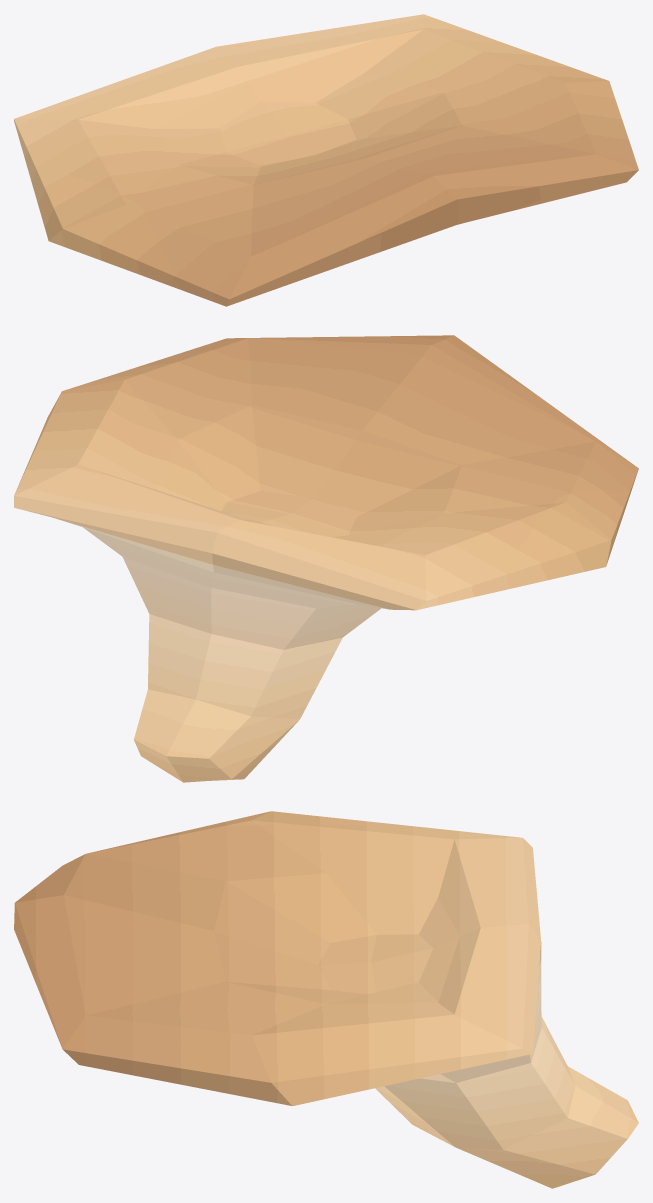
File: Oyster_Medium.glb
The picture shows the model from 3 angles, top to bottom: view 1: azimuth 30°, elevation 25°; view 2: azimuth 150°, elevation 25°; view 3: azimuth 270°, elevation 25°; orthographic projection. The views are drawn at different scales.
Parts seen in each view (by area): view 1: Cube.001; view 2: Cube.001; view 3: Cube.001.
Part boxes in pixels (box(x1,y1,x2,y2)): Cube.001: box(14, 14, 638, 306); Cube.001: box(14, 335, 638, 782); Cube.001: box(14, 811, 638, 1188).
Bounding box in the file's own units: 6.97 × 3.22 × 6.3.
1 material, 1 textured.
